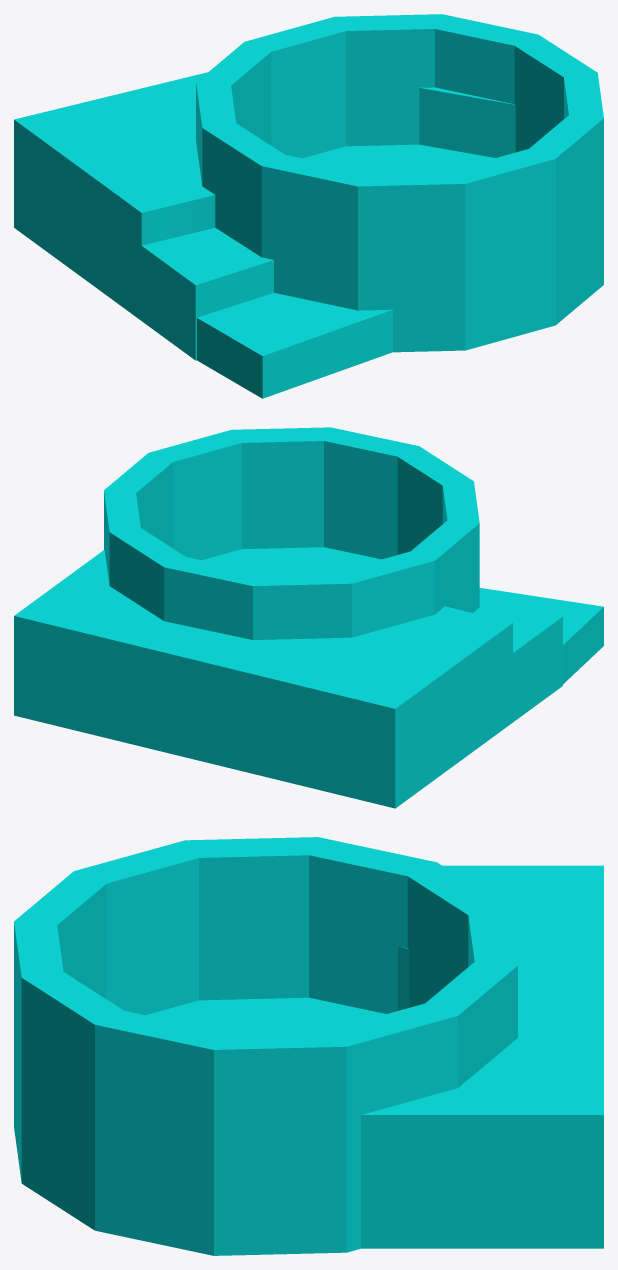
File: SM_Prop_Bath_01_Collision.fbx
The picture shows the model from 3 angles, top to bottom: view 1: azimuth 30°, elevation 25°; view 2: azimuth 150°, elevation 25°; view 3: azimuth 270°, elevation 25°; orthographic projection. The views are drawn at different scales.
Parts seen in each view (by area): view 1: SM_Prop_Bath_01_Collision; view 2: SM_Prop_Bath_01_Collision; view 3: SM_Prop_Bath_01_Collision.
Part boxes in pixels (x1,y1,x2,y2): SM_Prop_Bath_01_Collision: [14, 14, 603, 398]; SM_Prop_Bath_01_Collision: [14, 427, 603, 808]; SM_Prop_Bath_01_Collision: [14, 837, 603, 1255].
Size of the model in its own units: 255 by 95.4 by 248.
